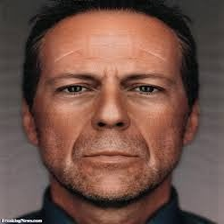no_mask: (35, 32, 185, 195)
